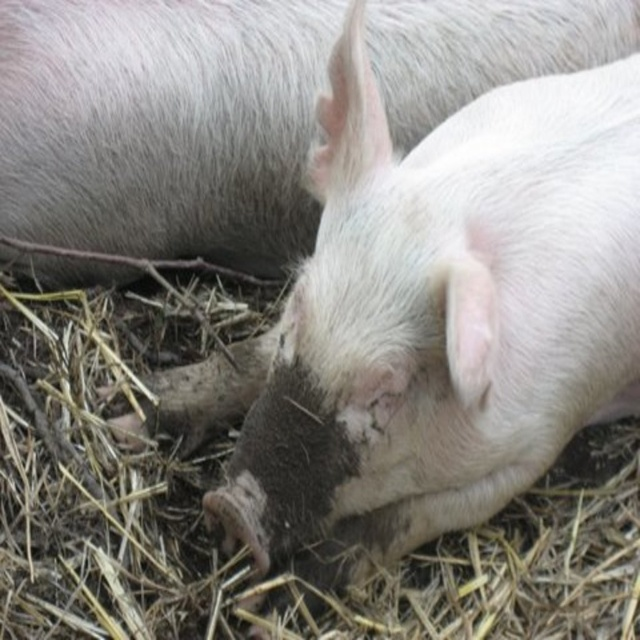Pig: (103, 0, 639, 636), (0, 0, 639, 281)
